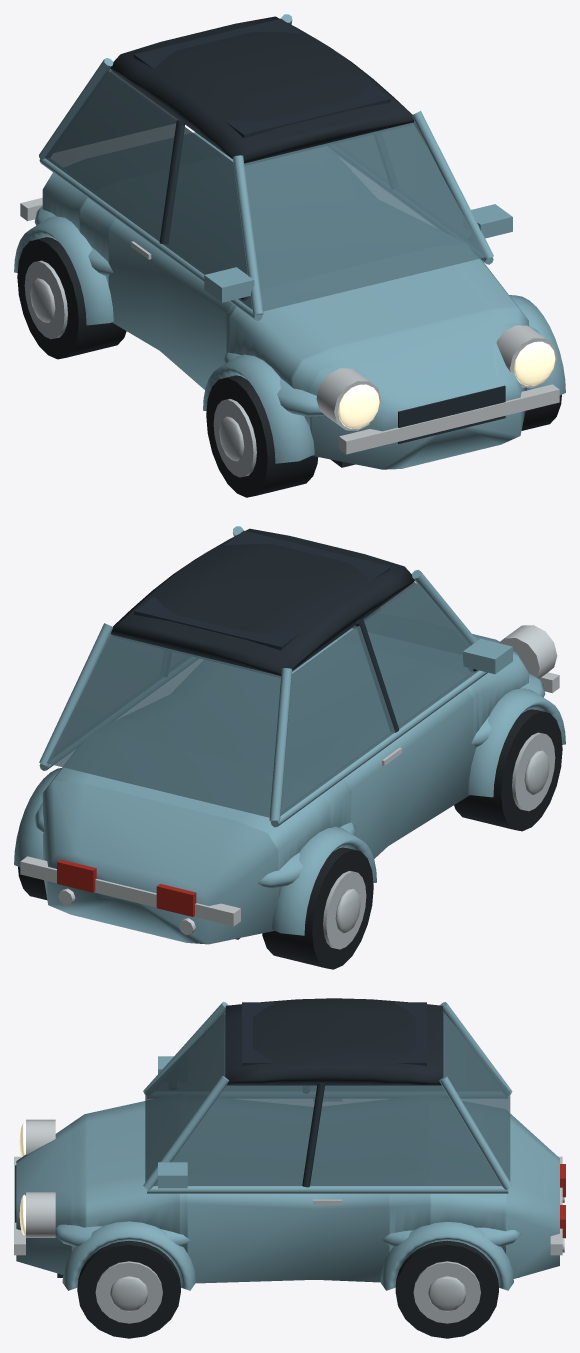
The model's file is parisienne.glb.
3 renders of one model, top to bottom at view 1: azimuth 30°, elevation 25°; view 2: azimuth 150°, elevation 25°; view 3: azimuth 270°, elevation 25°, orthographic. The views are drawn at different scales.
Parts seen in each view (by area): view 1: exterior-paint, windows, secondary-paint, chrome, black-trim, tire-front-left, tire-rear-left, headlights, rim-rear-left, rim-front-left, tire-front-right; view 2: exterior-paint, windows, secondary-paint, chrome, tire-rear-left, tire-front-left, black-trim, rim-front-left, rim-rear-left, taillights; view 3: exterior-paint, windows, secondary-paint, tire-front-right, tire-rear-right, rim-rear-right, rim-front-right, chrome, black-trim.
Boxes of the visible parts, left/top/right/bottom form: exterior-paint: left=14, top=14, right=565, bottom=469; windows: left=45, top=70, right=486, bottom=311; secondary-paint: left=110, top=16, right=414, bottom=163; chrome: left=20, top=197, right=559, bottom=454; black-trim: left=134, top=18, right=505, bottom=467; tire-front-left: left=206, top=375, right=318, bottom=497; tire-rear-left: left=17, top=237, right=126, bottom=359; headlights: left=338, top=341, right=555, bottom=428; rim-rear-left: left=24, top=260, right=67, bottom=339; rim-front-left: left=213, top=399, right=256, bottom=477; tire-front-right: left=521, top=395, right=561, bottom=430; exterior-paint: left=14, top=526, right=565, bottom=944; windows: left=46, top=581, right=479, bottom=817; secondary-paint: left=111, top=528, right=414, bottom=676; chrome: left=20, top=625, right=559, bottom=934; tire-rear-left: left=262, top=847, right=373, bottom=969; tire-front-left: left=454, top=709, right=562, bottom=831; black-trim: left=134, top=531, right=477, bottom=939; rim-front-left: left=512, top=732, right=555, bottom=811; rim-rear-left: left=323, top=871, right=366, bottom=949; taillights: left=57, top=859, right=196, bottom=916; exterior-paint: left=16, top=1002, right=559, bottom=1290; windows: left=145, top=1012, right=510, bottom=1185; secondary-paint: left=225, top=998, right=443, bottom=1085; tire-front-right: left=77, top=1240, right=180, bottom=1338; tire-rear-right: left=395, top=1240, right=498, bottom=1338; rim-rear-right: left=413, top=1261, right=480, bottom=1323; rim-front-right: left=95, top=1261, right=162, bottom=1323; chrome: left=14, top=1099, right=564, bottom=1255; black-trim: left=15, top=1002, right=518, bottom=1277.
Bounding box in the file's own units: 1.66 × 1.49 × 2.99.
